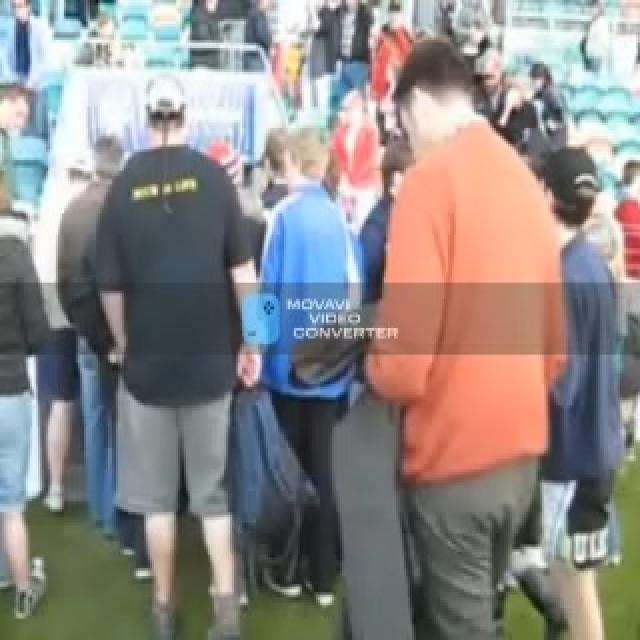non-voilence: (0, 0, 638, 637), (360, 32, 568, 637), (92, 72, 262, 637)
